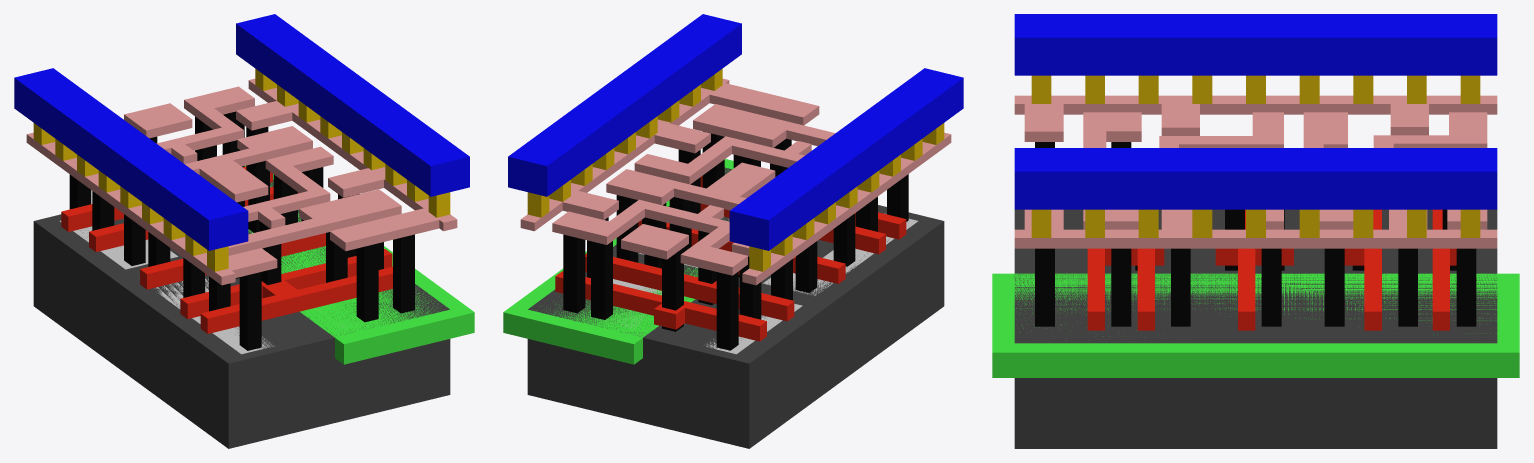
Rendered from sky130_fd_sc_hd__clkdlybuf4s15_2.obj.
3 renders of one model, left to right at view 1: azimuth 30°, elevation 25°; view 2: azimuth 150°, elevation 25°; view 3: azimuth 270°, elevation 25°, orthographic. The views are drawn at different scales.
Parts seen in each view (by area): view 1: subs, metal1, li, licon, poly, nwell, mcon, diff; view 2: subs, metal1, li, licon, poly, nwell, mcon, diff; view 3: subs, metal1, li, nwell, licon, mcon, poly.
Boxes of the visible parts, bbox=[...] form: subs: bbox=[33, 180, 450, 448]; metal1: bbox=[14, 14, 469, 250]; li: bbox=[26, 78, 457, 285]; licon: bbox=[69, 111, 414, 350]; poly: bbox=[61, 166, 392, 333]; nwell: bbox=[244, 165, 474, 364]; mcon: bbox=[33, 68, 450, 271]; diff: bbox=[59, 220, 274, 354]; subs: bbox=[527, 167, 944, 448]; metal1: bbox=[508, 14, 963, 250]; li: bbox=[520, 78, 951, 285]; licon: bbox=[563, 131, 908, 350]; poly: bbox=[555, 176, 906, 341]; nwell: bbox=[503, 159, 733, 364]; mcon: bbox=[527, 68, 944, 271]; diff: bbox=[706, 213, 918, 354]; subs: bbox=[1014, 209, 1497, 448]; metal1: bbox=[1014, 14, 1497, 209]; li: bbox=[1014, 95, 1497, 248]; nwell: bbox=[992, 273, 1519, 377]; licon: bbox=[1035, 142, 1476, 326]; mcon: bbox=[1031, 75, 1480, 237]; poly: bbox=[1087, 209, 1456, 330].
Bounding box in the file's own units: 3.2 × 2.74 × 4.52.
